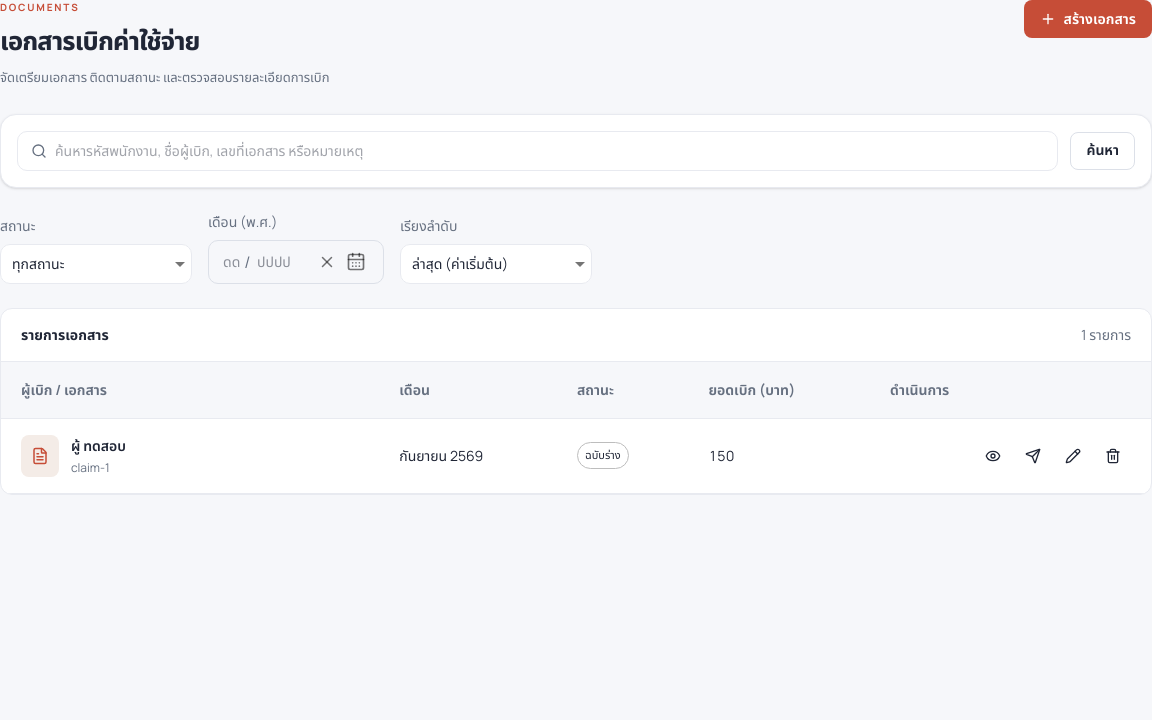
Scenario: claim presentation preserves behavior › blocks saving on failed eligibility load and restores saved dates after retry
Click the button named "แก้ไขเอกสาร claim-1": (1073, 456) [1055, 437, 1091, 475]
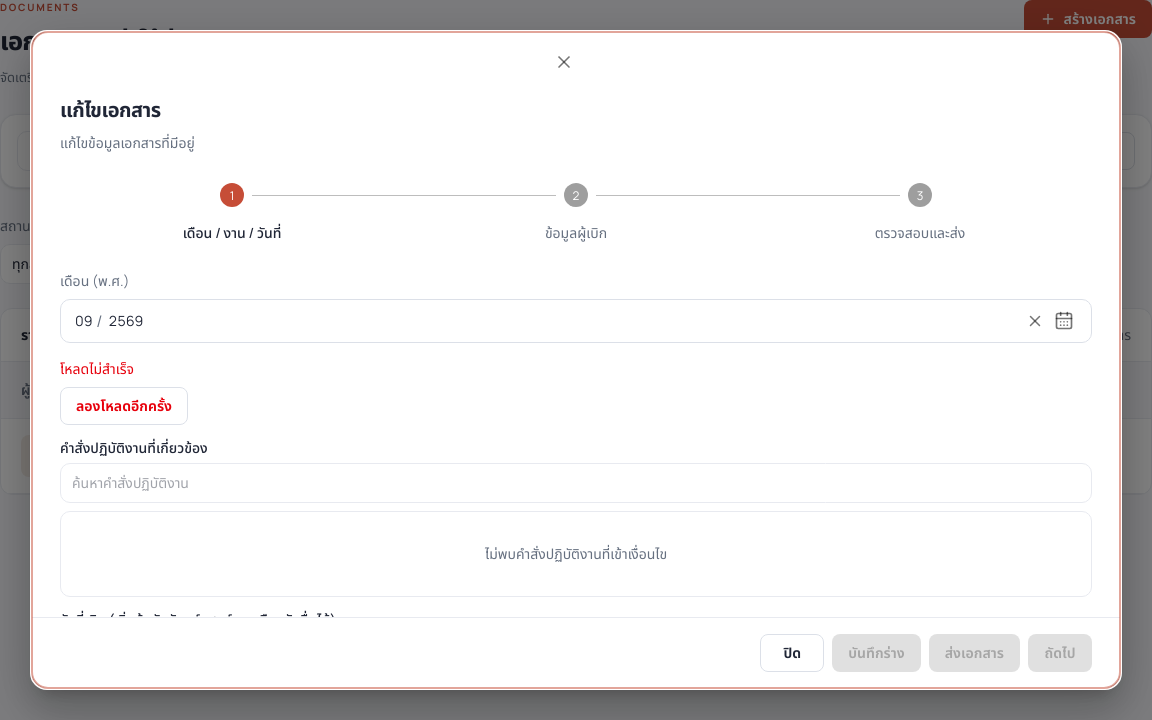
Expected: the text "โหลดไม่สำเร็จ" is shown, [60, 359, 134, 378]
Expected: the button "บันทึกร่าง" is disabled, [832, 634, 921, 672]
Click the button "ลองโหลดอีกครั้ง": (124, 406) [60, 387, 188, 425]
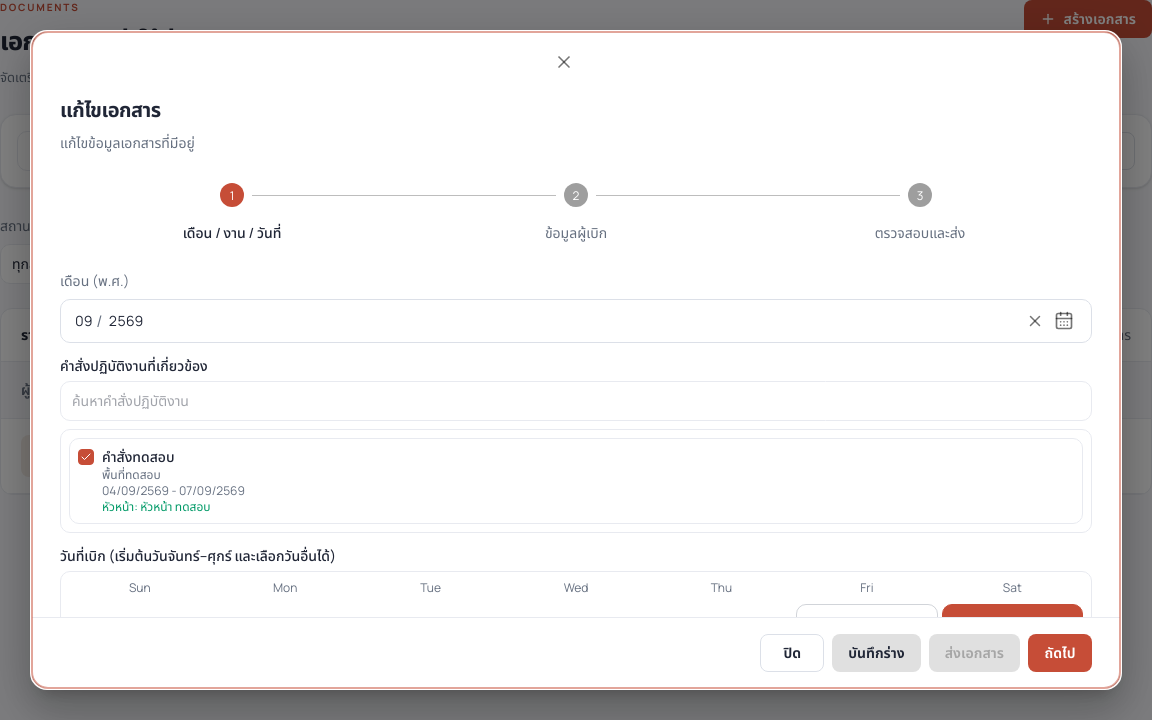
Expected: the button "คำสั่งทดสอบ" is shown, [69, 438, 1083, 524]
Expected: the button "บันทึกร่าง" is enabled, [832, 634, 921, 672]
